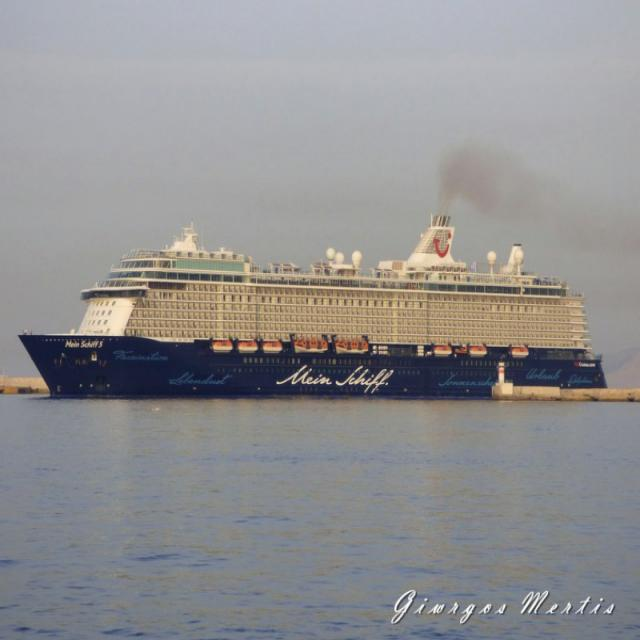cruises: (13, 213, 611, 408)
